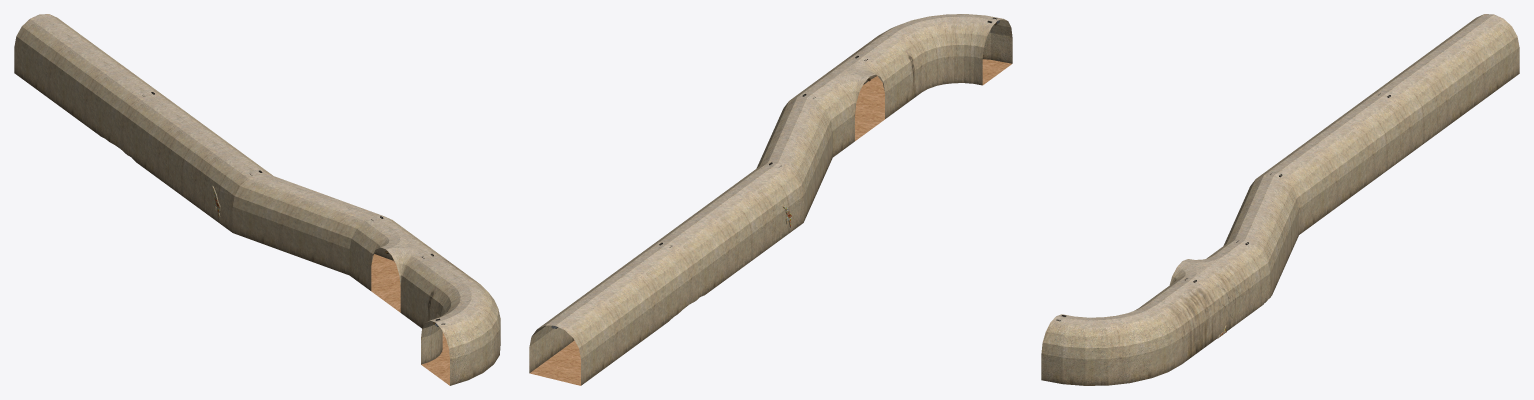
Rendered from thm_tato_jabbas_palace_r7_hall3_mesh_r7.fbx.
The picture shows the model from 3 angles, left to right: view 1: azimuth 30°, elevation 25°; view 2: azimuth 150°, elevation 25°; view 3: azimuth 330°, elevation 25°; orthographic projection. The views are drawn at different scales.
Parts seen in each view (by area): view 1: mesh_node; view 2: mesh_node; view 3: mesh_node.
Boxes of the visible parts, x1=… form: mesh_node: x1=14, y1=14, x2=500, y2=385; mesh_node: x1=529, y1=14, x2=1012, y2=385; mesh_node: x1=1041, y1=14, x2=1519, y2=385.
Bounding box in the file's own units: 7.6 × 4 × 59.
